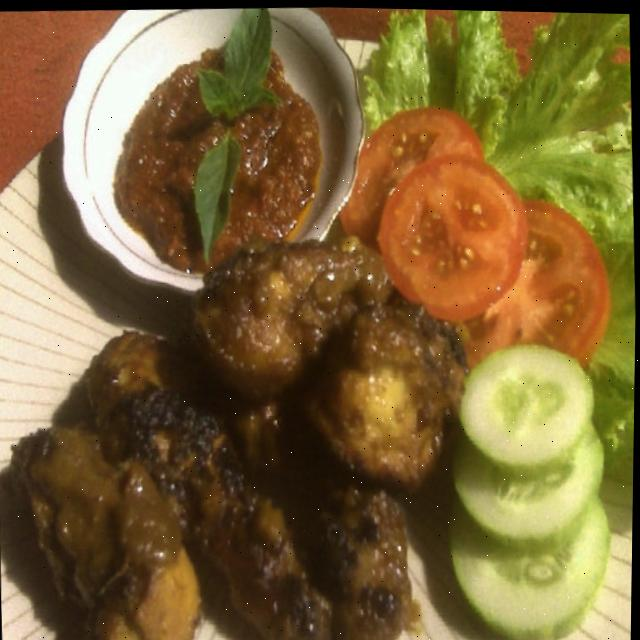鸡肉料理 含炸鸡: (5, 25, 640, 640)
